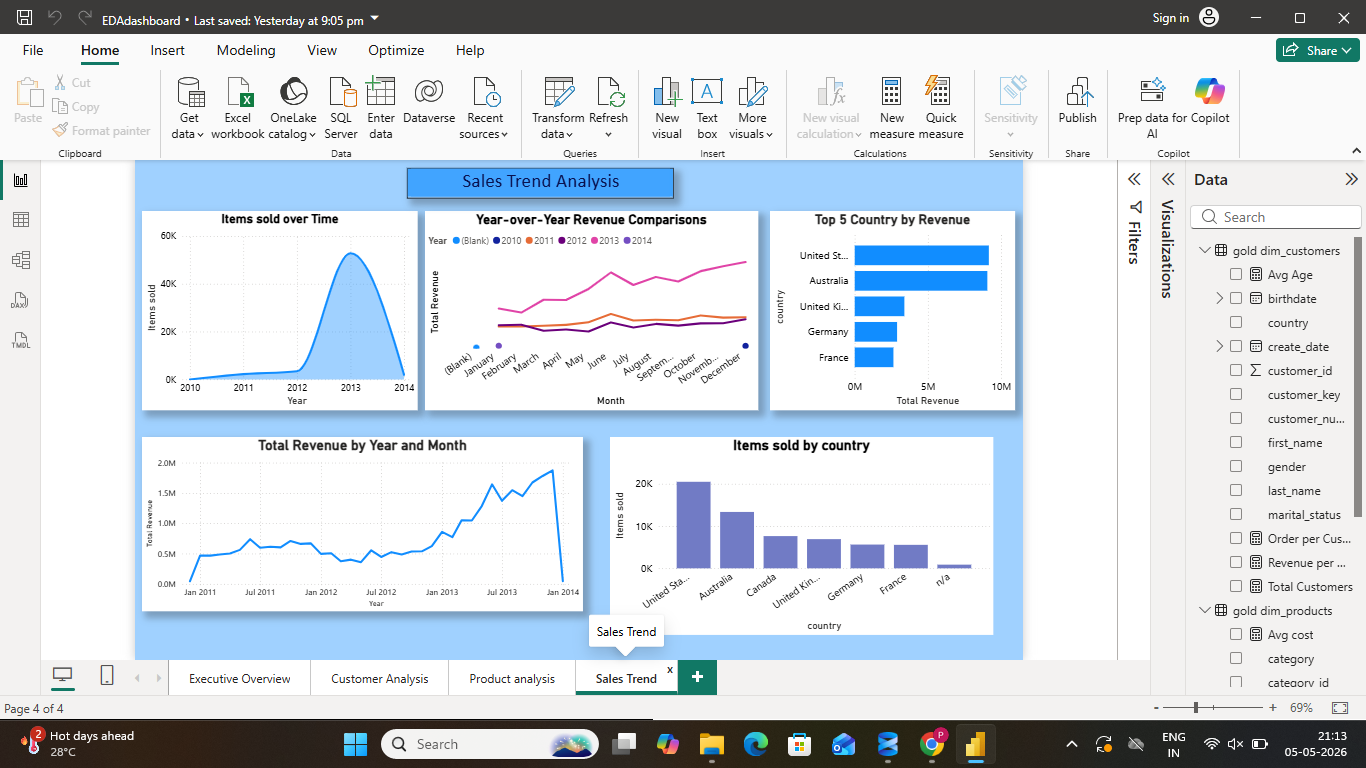

The dashboard page shown, as its layout file describes it:
{"tool":"powerbi","page":{"name":"Sales Trend","canvas":[1280,720],"ordinal":3},"visuals":[{"type":"areaChart","title":"Items sold over Time","fields":{"Category":["gold fact_sales.order_date.Variation.Date Hierarchy.Year","gold fact_sales.order_date.Variation.Date Hierarchy.Month"],"Y":["gold fact_sales.Items sold"]},"box":[10.1,73.4,397.4,286.6],"z":0},{"type":"lineChart","title":"Year-over-Year Revenue Comparisons ","fields":{"Category":["gold fact_sales.order_date.Variation.Date Hierarchy.Month"],"Y":["gold fact_sales.Total Revenue"],"Series":["gold fact_sales.order_date.Variation.Date Hierarchy.Year"]},"box":[417.6,73.4,479.5,286.6],"z":1000},{"type":"clusteredBarChart","title":"Top 5 Country by Revenue","fields":{"Category":["gold dim_customers.country"],"Y":["gold fact_sales.Total Revenue"]},"box":[914.4,73.4,352.8,286.6],"z":2000},{"type":"lineChart","fields":{"Y":["gold fact_sales.Total Revenue"],"Category":["gold fact_sales.order_date.Variation.Date Hierarchy.Year","gold fact_sales.order_date.Variation.Date Hierarchy.Month"]},"box":[10.1,398.9,635,250.6],"z":3000},{"type":"textbox","title":"Sales Trend Analysis","box":[391.7,11.5,384,44],"z":4000},{"type":"clusteredColumnChart","fields":{"Y":["gold fact_sales.Items sold"],"Category":["gold dim_customers.country"]},"box":[684,398.9,551.5,285.1],"z":5000}]}

Visuals, with their boxes on the page's 1280x720 design canvas (x1, y1, x2, y2). These are canvas units, not pixel positions in the 1366x768 screenshot, which may show the page scaled, cropped or inside an application window:
"Items sold over Time" areaChart: l=10, t=73, r=408, b=360
"Year-over-Year Revenue Comparisons " lineChart: l=418, t=73, r=897, b=360
"Top 5 Country by Revenue" clusteredBarChart: l=914, t=73, r=1267, b=360
lineChart - gold fact_sales.Total Revenue x gold fact_sales.order_date.Variation.Date Hierarchy.Year: l=10, t=399, r=645, b=650
"Sales Trend Analysis" textbox: l=392, t=12, r=776, b=56
clusteredColumnChart - gold fact_sales.Items sold x gold dim_customers.country: l=684, t=399, r=1236, b=684
